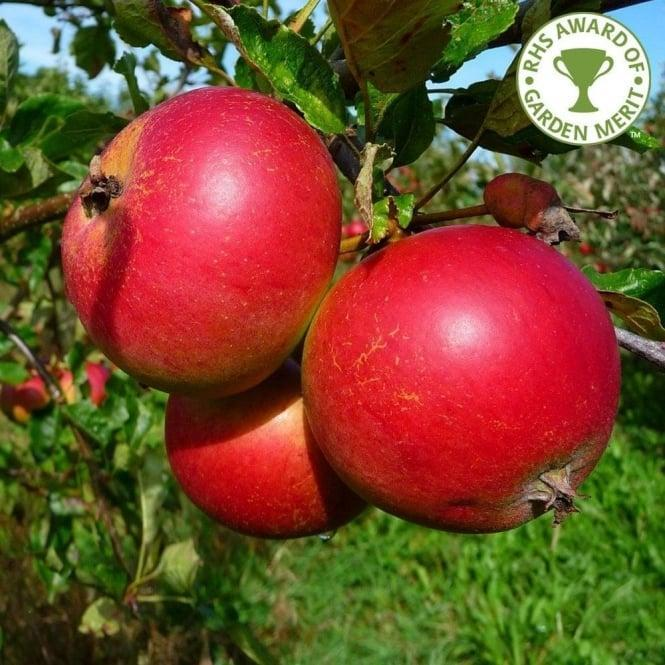apple: (308, 222, 621, 532), (62, 85, 349, 397), (159, 371, 358, 539)
